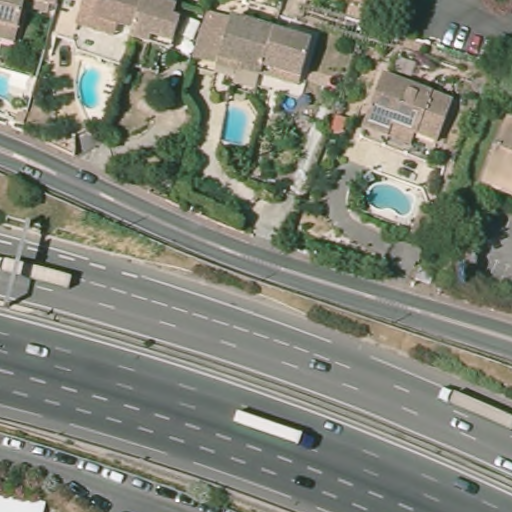pool: (219, 94, 266, 148), (362, 176, 418, 221), (71, 64, 114, 113), (1, 64, 16, 104)
